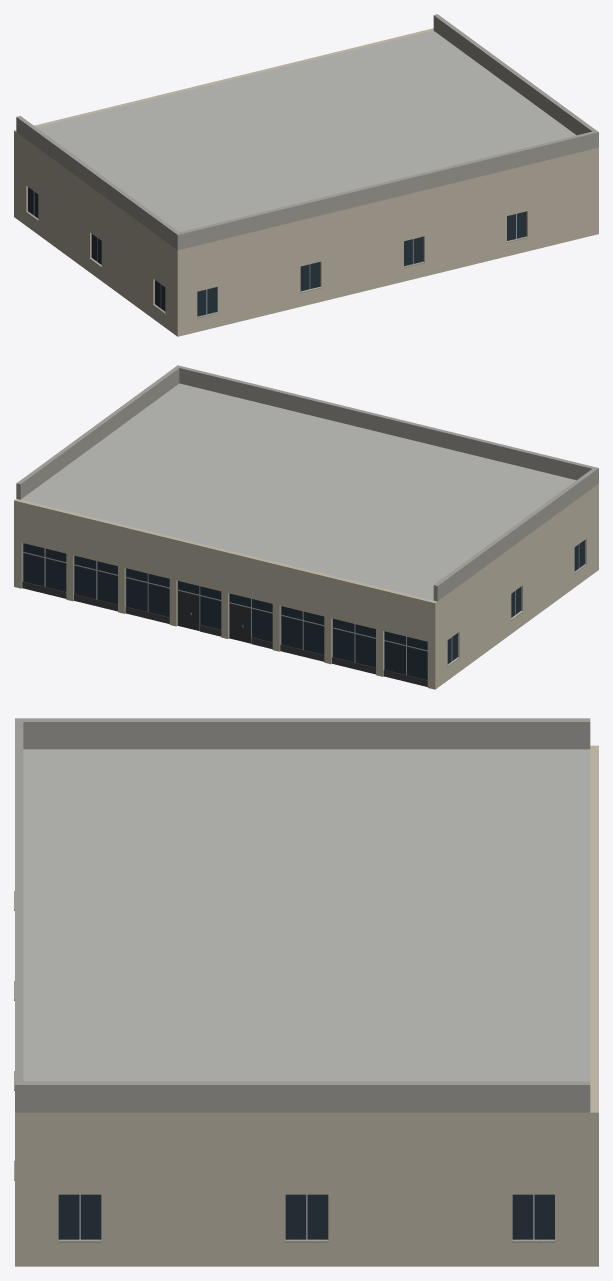
Rendered from tf_visitor_centre.glb.
The picture shows the model from 3 angles, top to bottom: view 1: azimuth 30°, elevation 25°; view 2: azimuth 150°, elevation 25°; view 3: azimuth 270°, elevation 25°; orthographic projection. The views are drawn at different scales.
Parts seen in each view (by area): view 1: tf_visitor_centre-col; view 2: tf_visitor_centre-col; view 3: tf_visitor_centre-col.
Part boxes in pixels (x1,y1,x2,y2): tf_visitor_centre-col: (14,14,598,336); tf_visitor_centre-col: (14,365,598,689); tf_visitor_centre-col: (14,718,598,1266).
Bounding box in the file's own units: 30.66 × 7.07 × 20.63.
